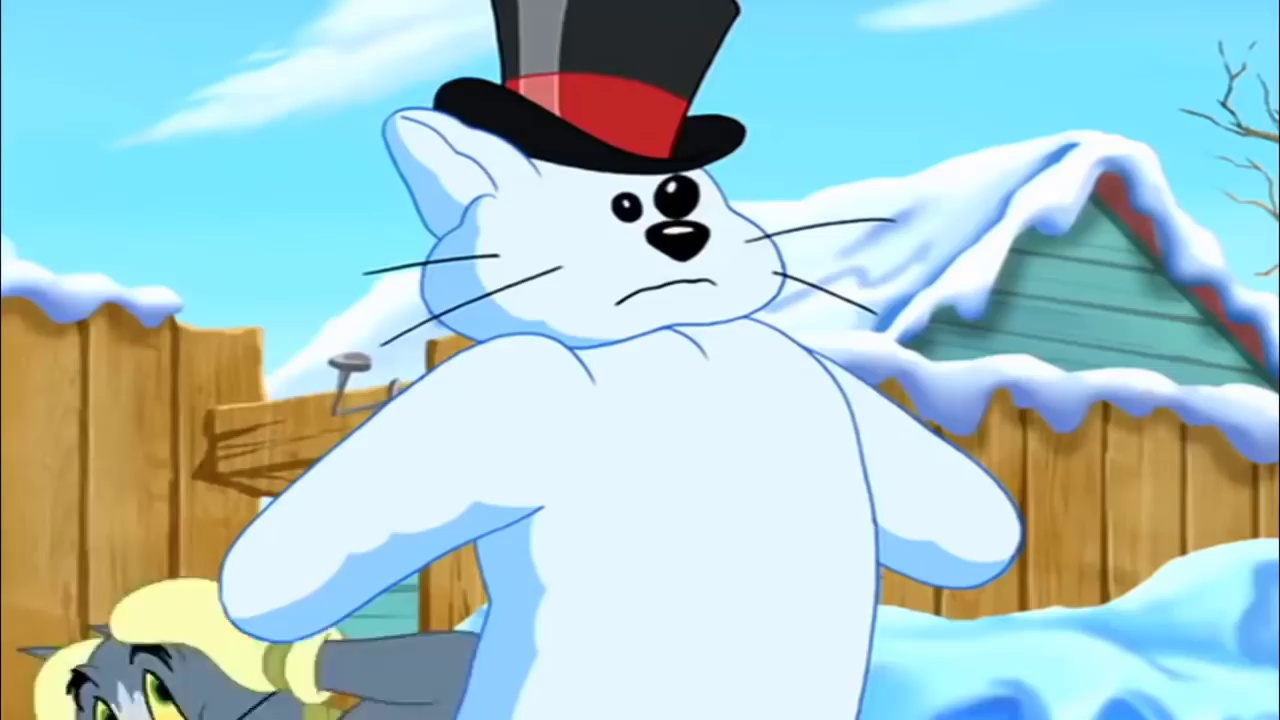face: (62, 639, 246, 720)
